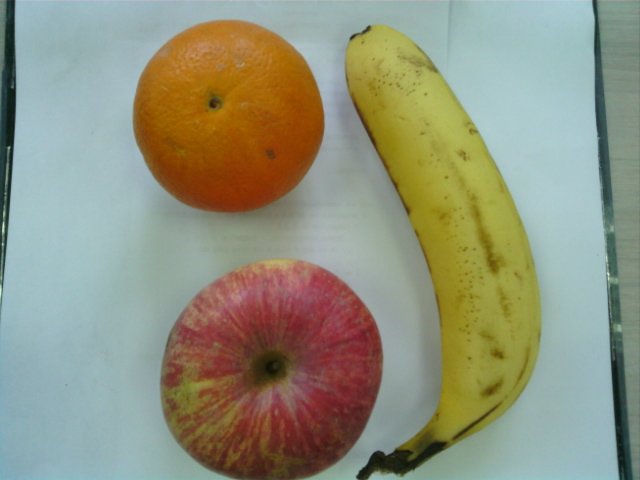normal_apple: (158, 255, 381, 480)
normal_banana: (345, 23, 545, 480)
normal_orange: (132, 17, 326, 218)
